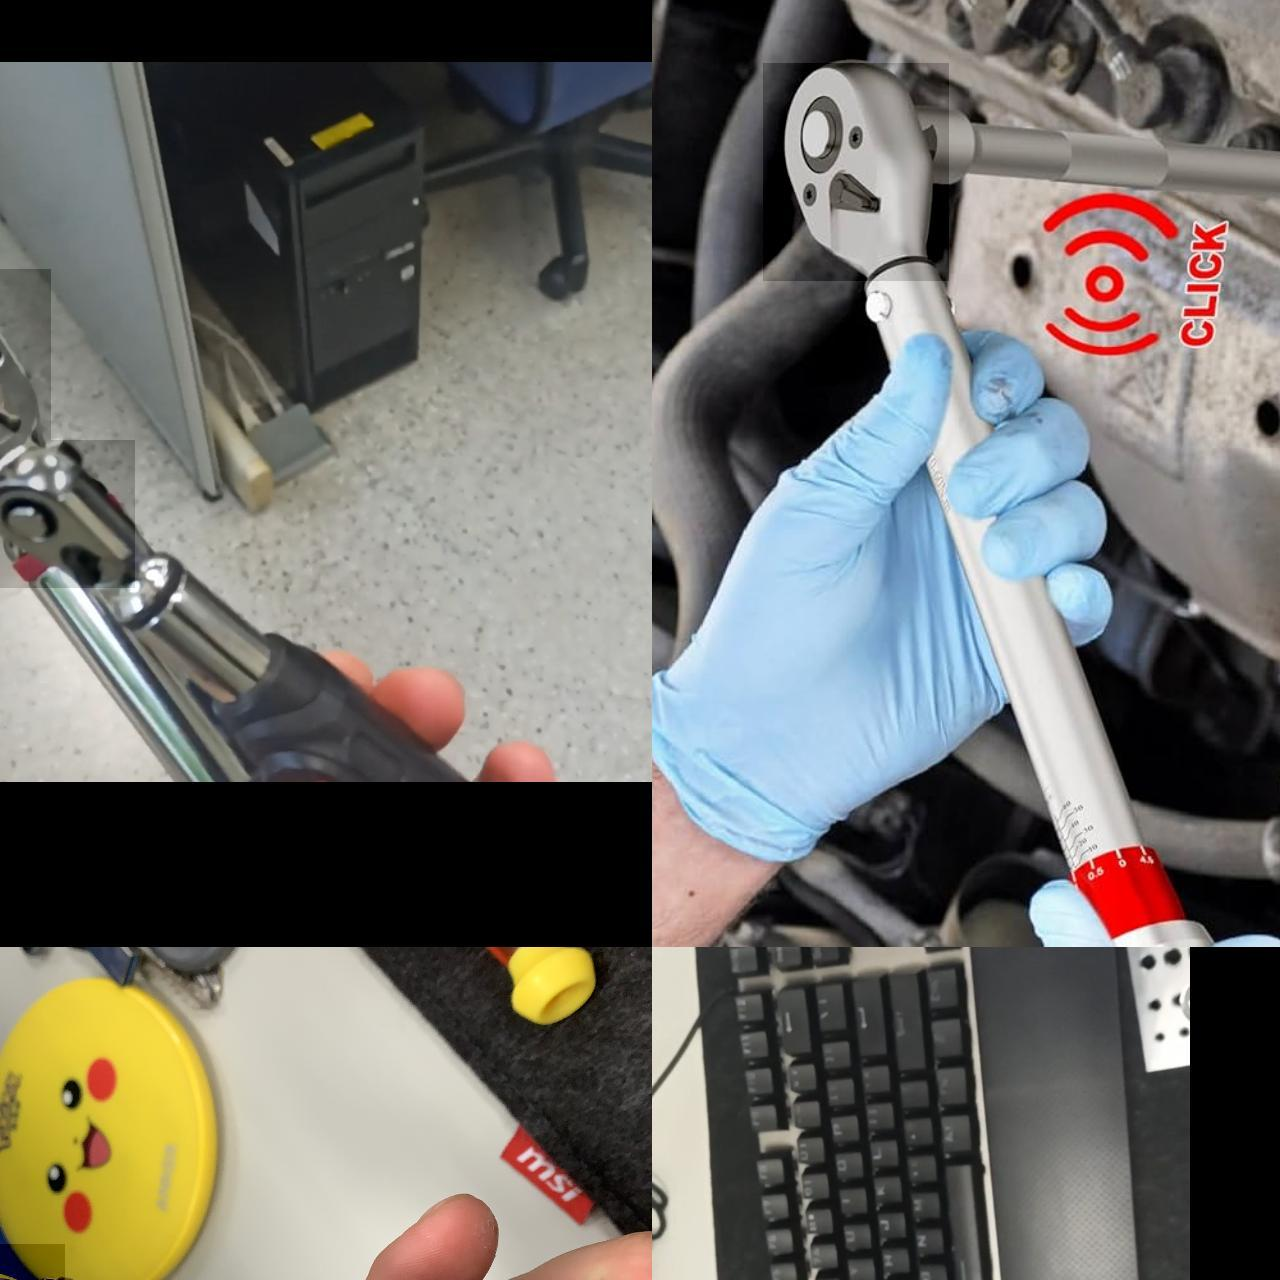Tool: (762, 63, 948, 281), (0, 440, 134, 588), (0, 269, 50, 467)
